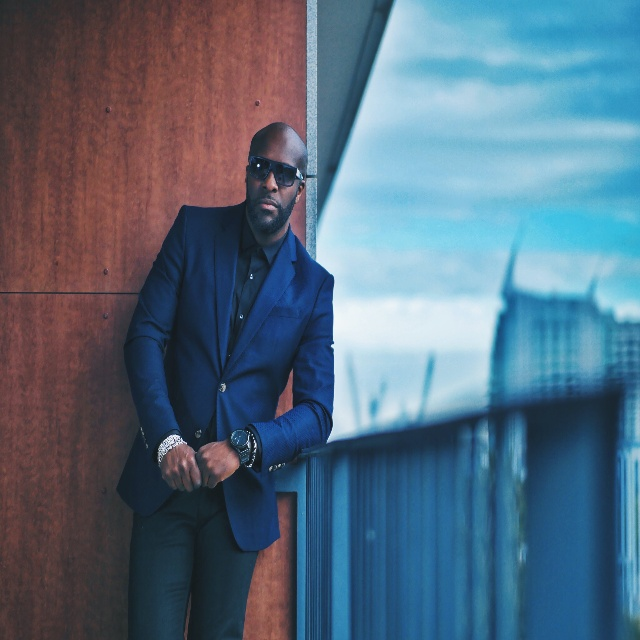Sin_guantes: (195, 437, 240, 489), (159, 443, 203, 494)
